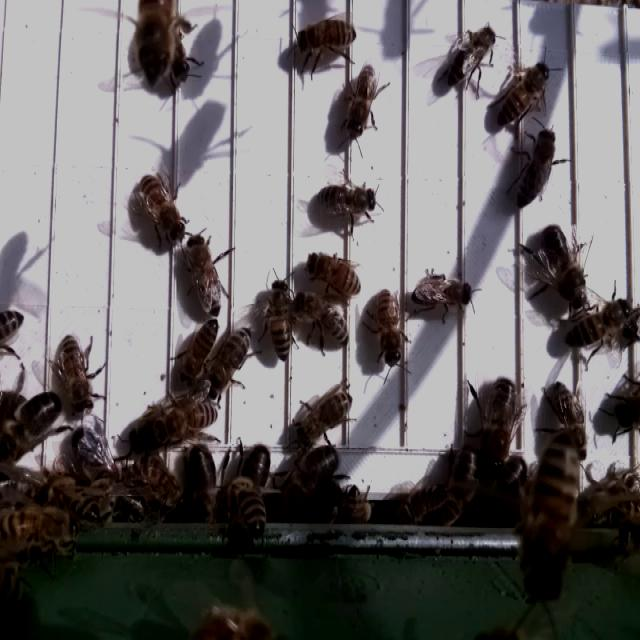Drone: (539, 221, 590, 314), (478, 372, 519, 481)
Worker: (497, 58, 553, 134), (514, 126, 559, 212), (561, 298, 634, 350), (138, 170, 186, 247), (206, 323, 256, 396), (292, 388, 358, 443), (183, 232, 223, 322), (443, 26, 499, 90), (154, 396, 223, 447), (57, 334, 98, 419), (295, 291, 353, 350), (179, 315, 221, 387), (412, 271, 476, 314), (295, 15, 358, 58), (346, 63, 379, 142), (306, 252, 363, 296), (373, 287, 402, 371), (266, 276, 293, 365), (317, 181, 379, 218)
